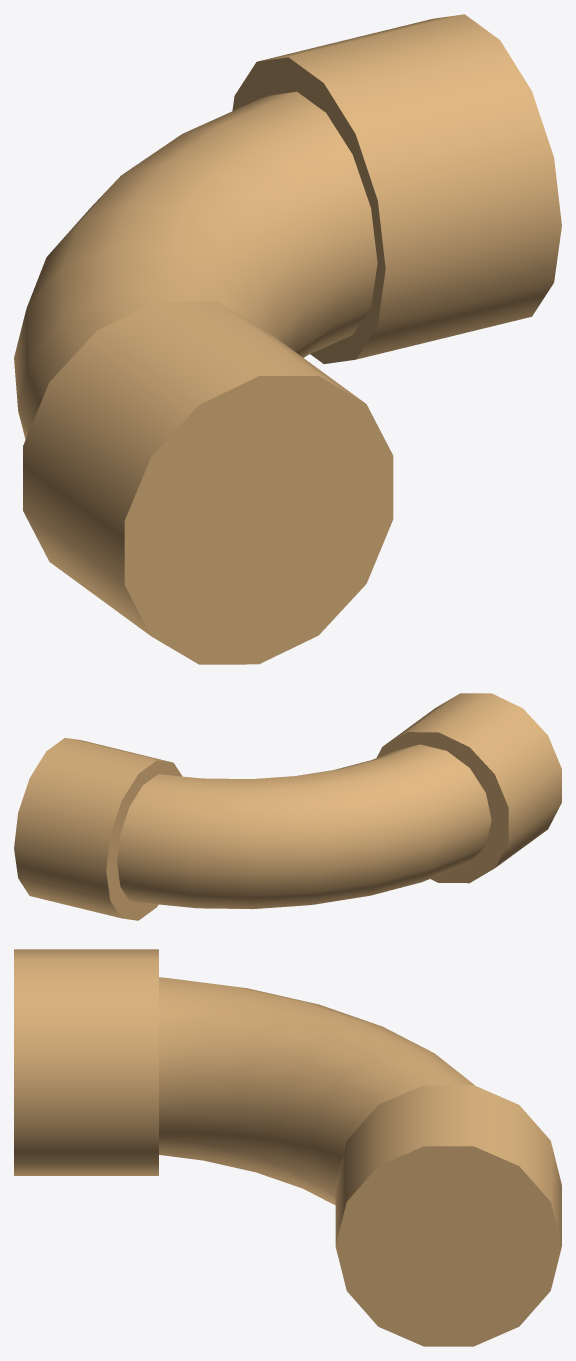
File: services.pipe.elbow_15.glb
The picture shows the model from 3 angles, top to bottom: view 1: azimuth 30°, elevation 25°; view 2: azimuth 150°, elevation 25°; view 3: azimuth 270°, elevation 25°; orthographic projection. The views are drawn at different scales.
Visible parts, largest first — view 1: main__copper; view 2: main__copper; view 3: main__copper.
Part boxes in pixels (<box>): main__copper: <box>14,14,561,664</box>; main__copper: <box>14,693,561,920</box>; main__copper: <box>14,949,561,1346</box>.
Size of the model in its own units: 0.0451 by 0.0188 by 0.0454.
